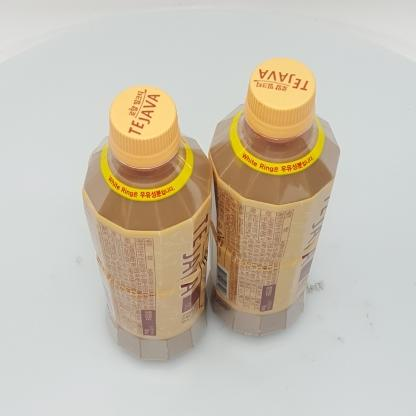-------------500ML: (205, 58, 340, 336), (82, 85, 212, 360)
